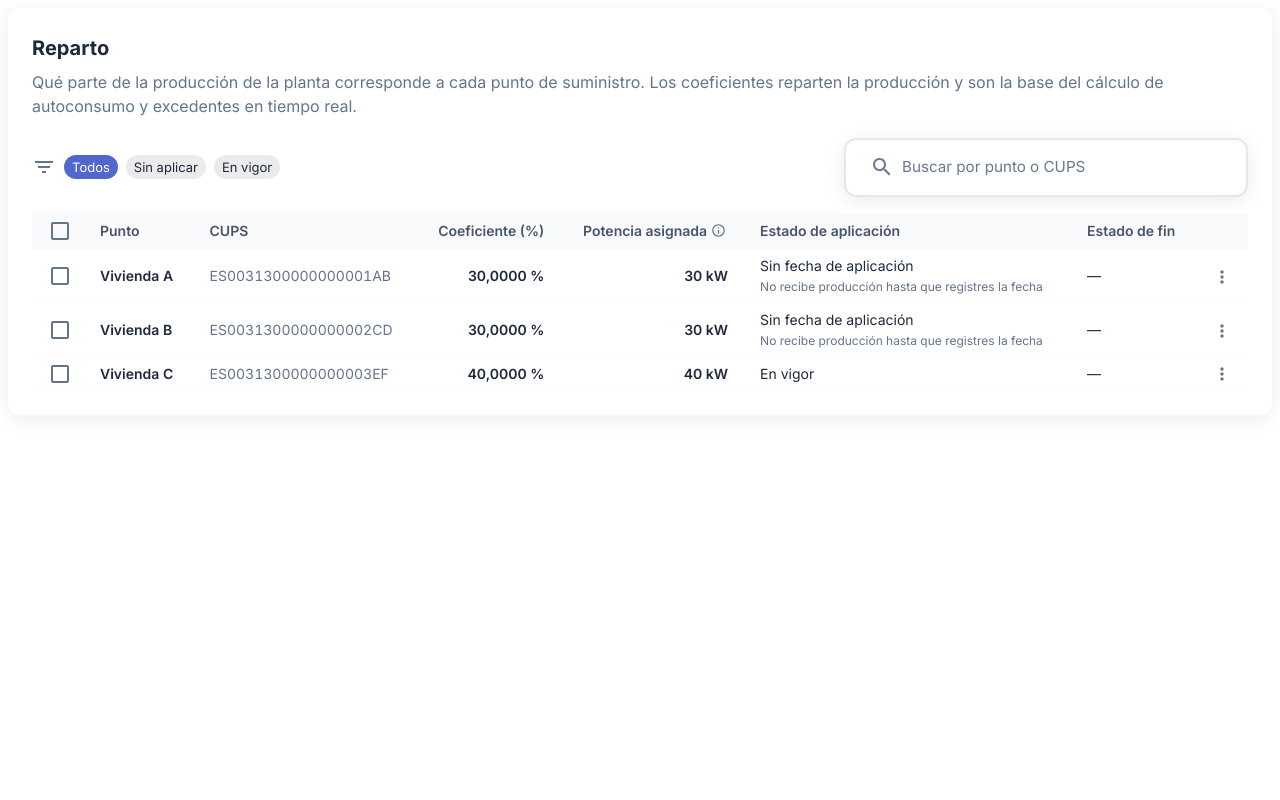
Scenario: SharingAgreementCoefficientSet (batch activation) › UI-AGR-006 the batch bar mounts only once something is selected — not merely because a PENDING row exists — and unmounts again when the last selection is cleare
Expected: the button "Acciones" is not shown
Expected: the text "seleccionad" is not shown
Click the checkbox named "Seleccionar Vivienda A".
click(60, 276)  # box [48, 264, 72, 288]
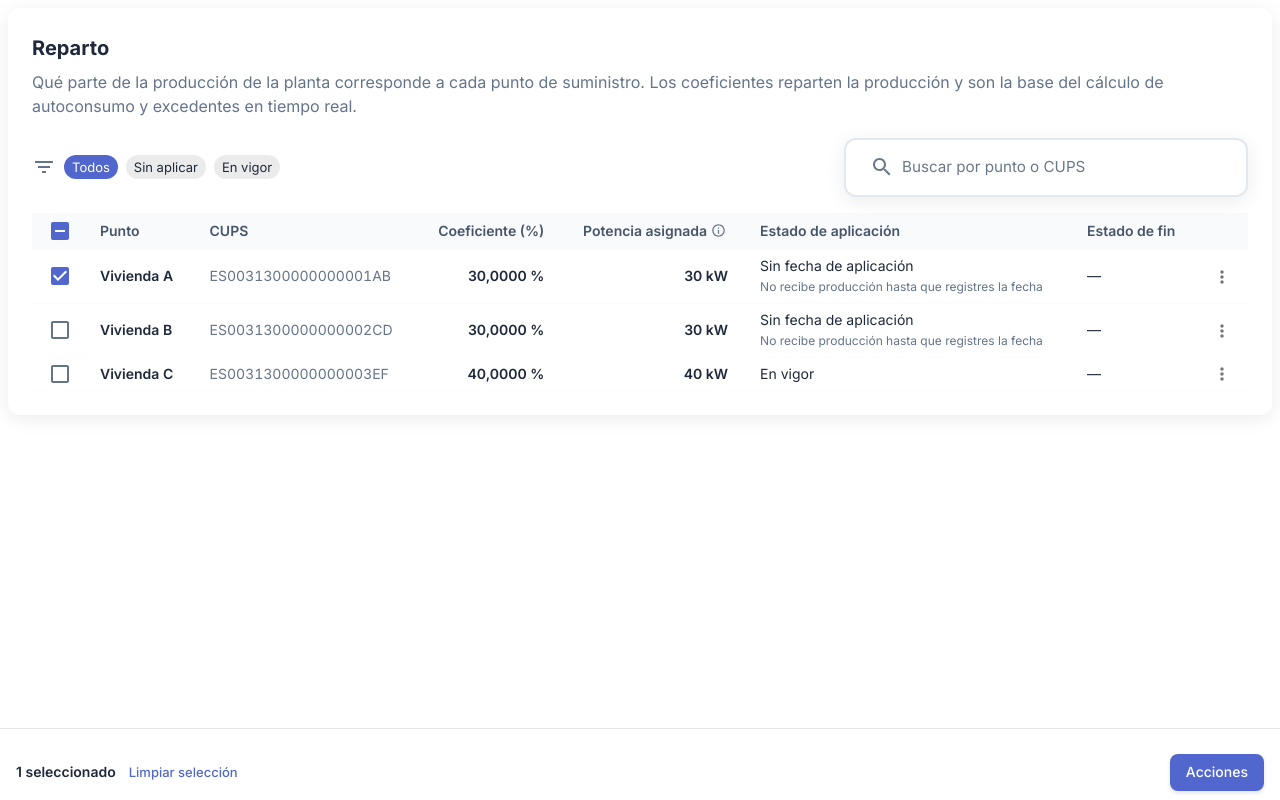
Expected: the button "Acciones" is shown, [1170, 754, 1264, 791]
Expected: the text "1 seleccionado" is shown, [16, 762, 116, 782]
Click the checkbox named "Seleccionar Vivienda A".
click(60, 276)  # box [48, 264, 72, 288]
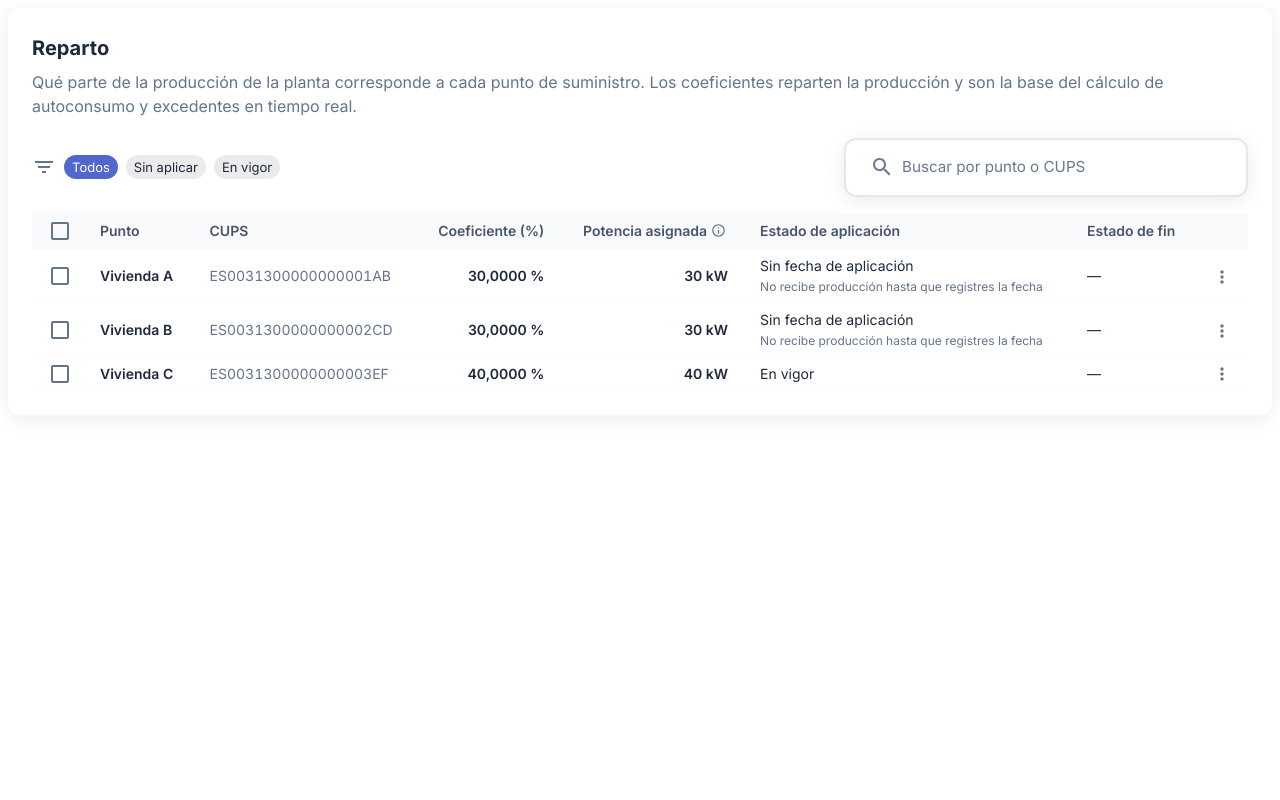
Expected: the button "Acciones" is gone
